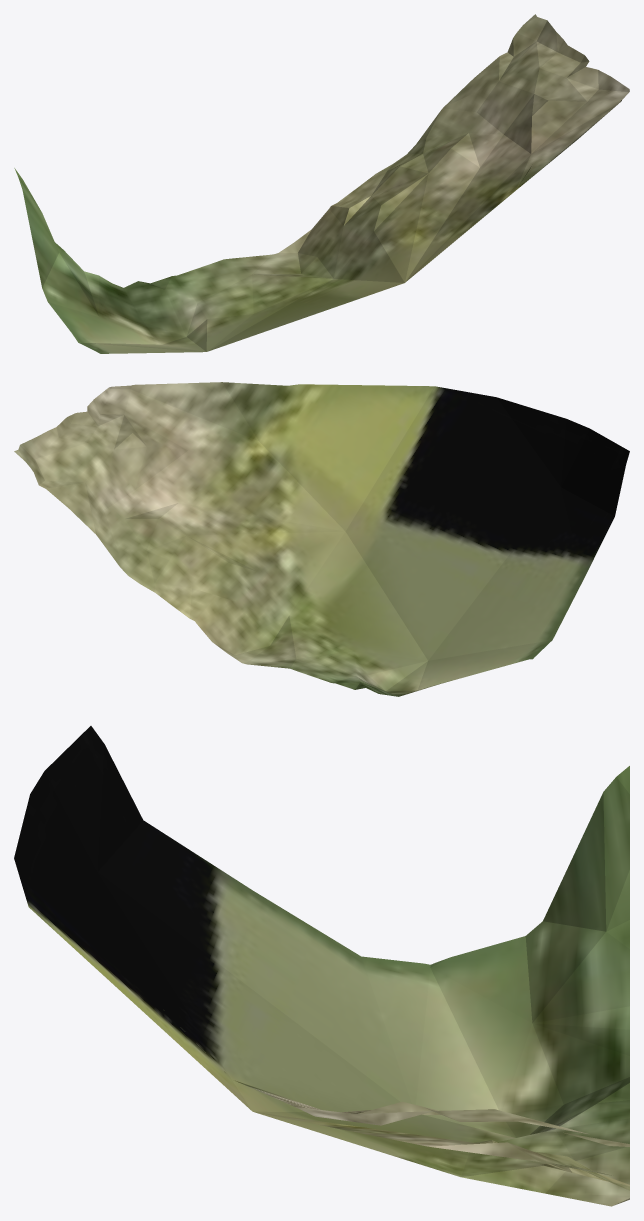
The picture shows the model from 3 angles, top to bottom: view 1: azimuth 30°, elevation 25°; view 2: azimuth 150°, elevation 25°; view 3: azimuth 270°, elevation 25°; orthographic projection. The views are drawn at different scales.
Size of the model in its own units: 6.75 by 2.5 by 4.44.
1 material, 1 textured.
